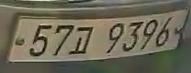3: (124, 20, 143, 51)
5: (28, 23, 53, 58)
6: (156, 15, 175, 47)
7: (54, 23, 74, 50)
9: (105, 23, 124, 52), (143, 18, 157, 48)
고: (72, 26, 97, 54)
